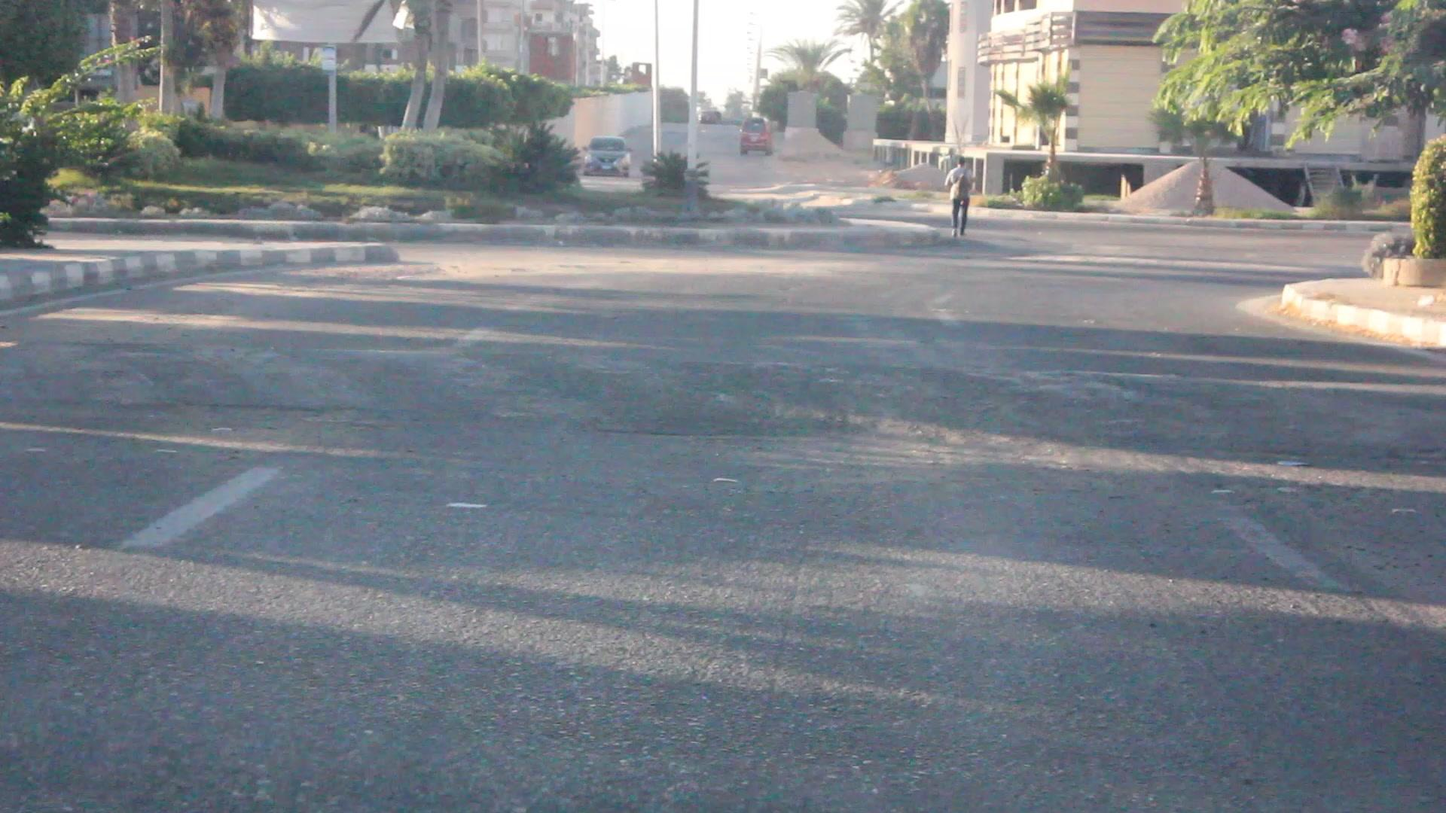Bump: (28, 327, 1446, 418)
